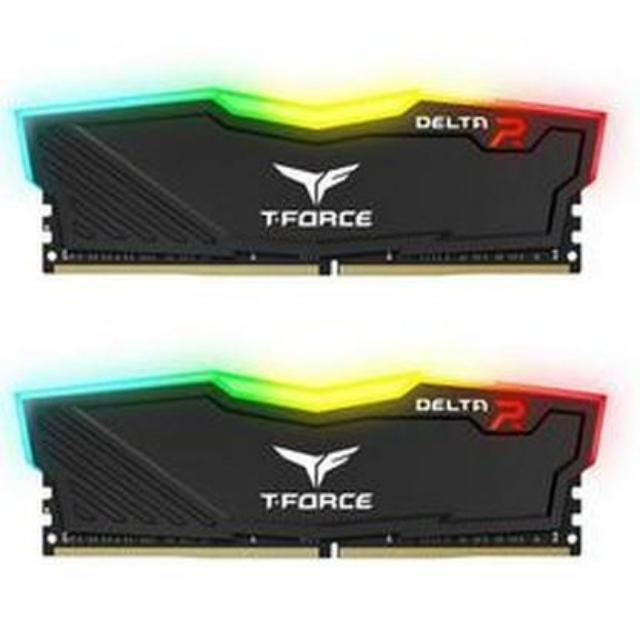RAM: (0, 340, 629, 575), (0, 72, 614, 298)
